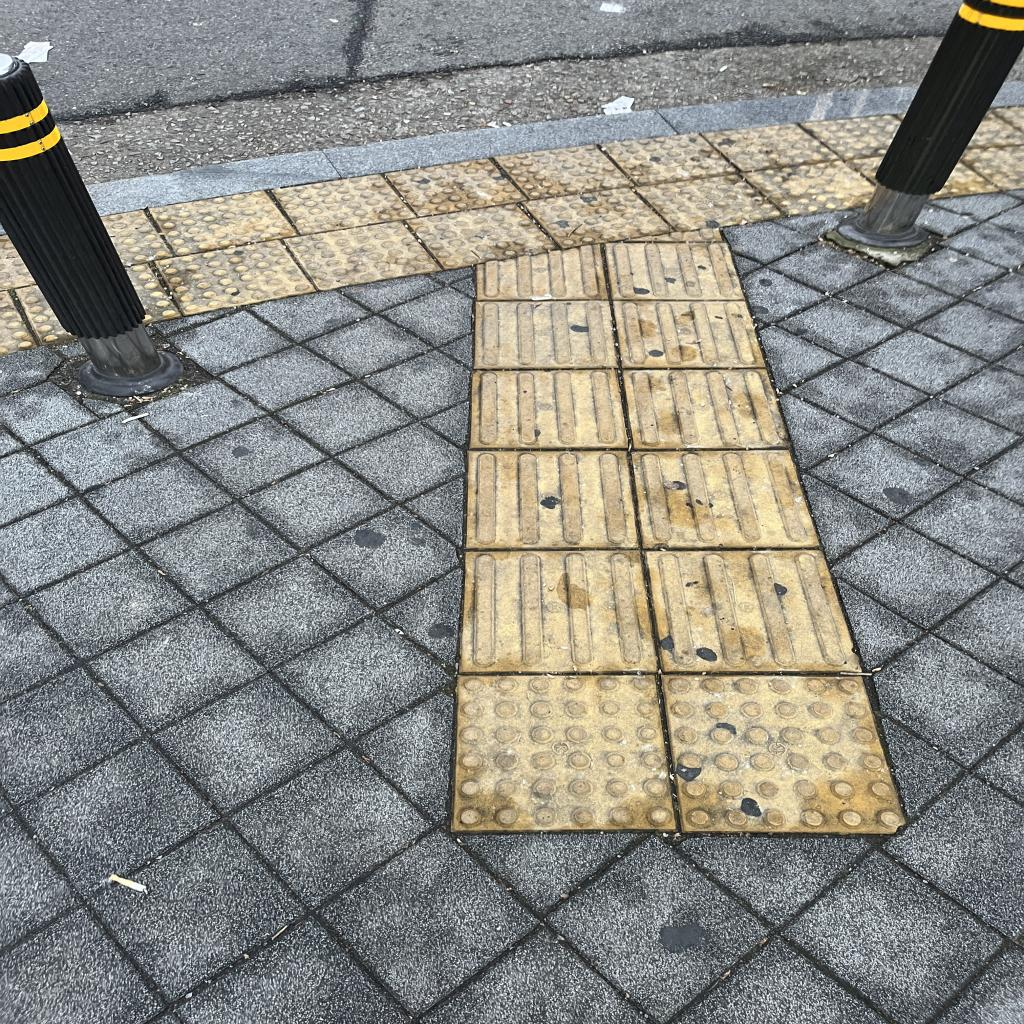Stop block normal: (664, 675, 903, 830), (453, 676, 676, 830), (285, 213, 440, 294), (407, 193, 556, 275), (525, 180, 672, 252), (635, 169, 784, 235), (386, 153, 526, 220), (495, 140, 634, 203)
Straight block normal: (645, 550, 858, 670), (459, 550, 656, 673), (633, 450, 818, 546), (468, 450, 639, 547), (624, 368, 789, 449), (470, 369, 629, 449), (614, 300, 764, 366), (475, 300, 617, 368)
